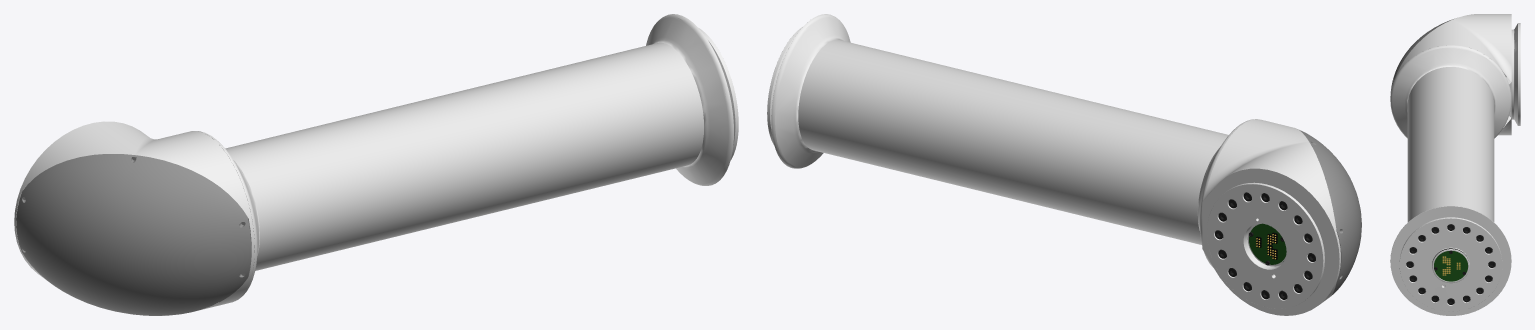
The picture shows the model from 3 angles, left to right: view 1: azimuth 30°, elevation 25°; view 2: azimuth 150°, elevation 25°; view 3: azimuth 270°, elevation 25°; orthographic projection. The views are drawn at different scales.
Parts seen in each view (by area): view 1: L148.001; view 2: L148.001; view 3: L148.001.
Part boxes in pixels (<box>): L148.001: <box>14,14,738,315</box>; L148.001: <box>767,14,1361,315</box>; L148.001: <box>1390,14,1520,315</box>.
Bounding box in the file's own units: 0.6286 × 0.148 × 0.1589.
